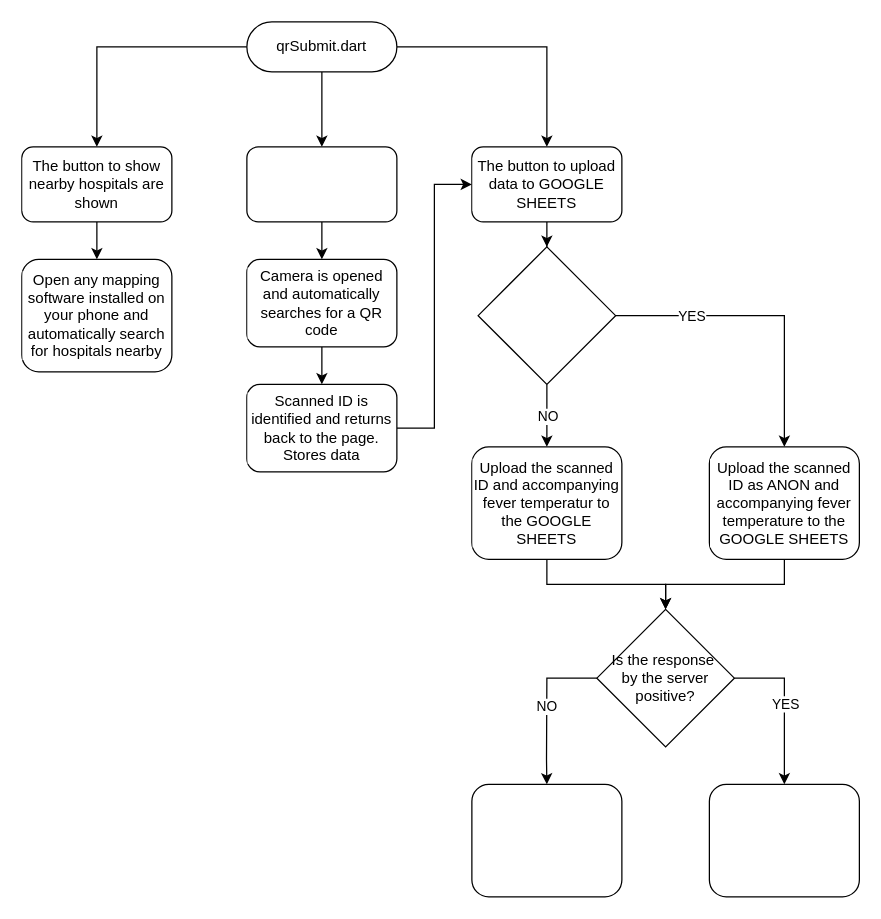
This 881x919 diagram has some shape labels left out. Here are the shapes that lost their labels. From the top down, the centre of each, then its label:
[321,184]: The button to scan QR code is displayed
[546,315]: Is the scanned ID empty or none found
[546,840]: Display "Data Transfer Error" on the bottom
[783,840]: Display "Data Transferred" on the bottom
